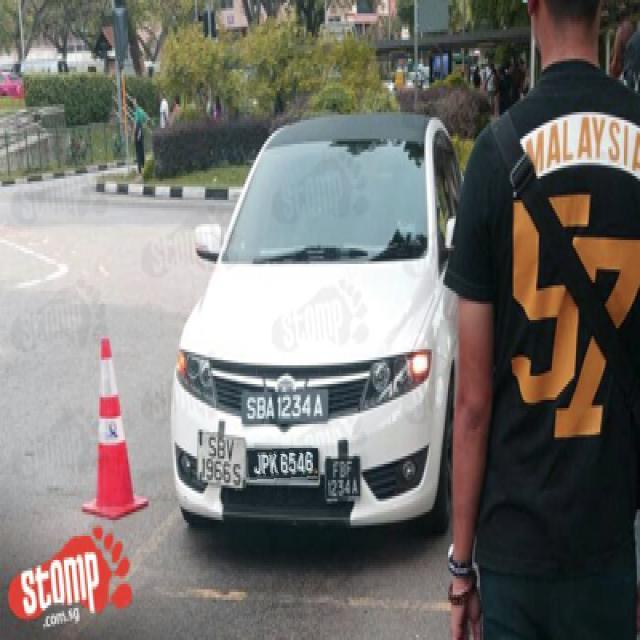licence: (246, 448, 318, 483)
